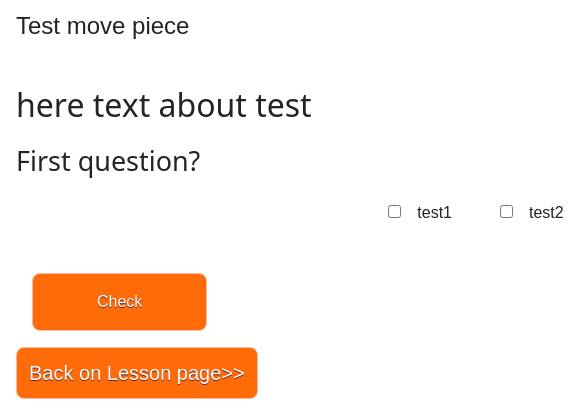
Scenario: exam page › exam page  render
The width and height of the screenshot is (580, 416).
Click the button.
click(120, 302)  # box left=32, top=273, right=207, bottom=331
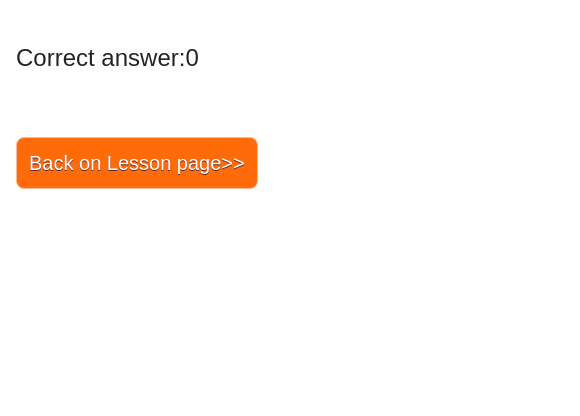
Expected: the heading "Correct answer:0" is shown, left=16, top=44, right=199, bottom=71
